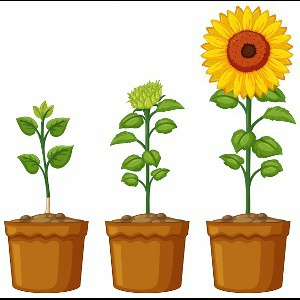flowerpot: (204, 210, 293, 294), (105, 211, 191, 293), (5, 213, 90, 294)
